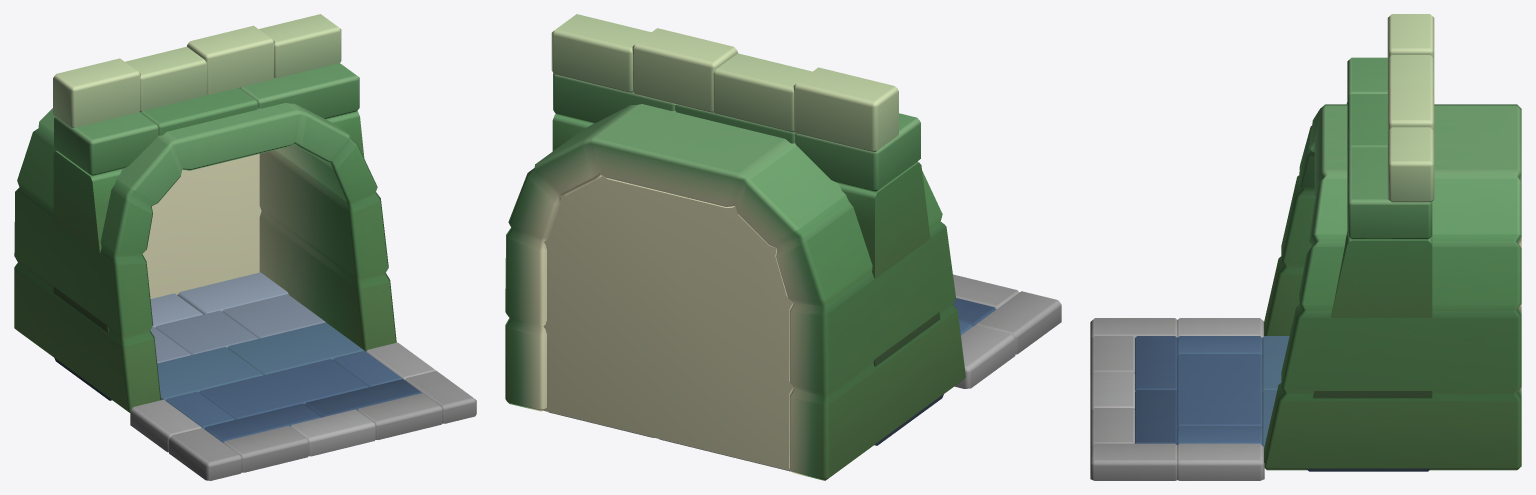
Rendered from doorway_entrance.fbx.
3 renders of one model, left to right at view 1: azimuth 30°, elevation 25°; view 2: azimuth 150°, elevation 25°; view 3: azimuth 270°, elevation 25°, orthographic. The views are drawn at different scales.
Parts seen in each view (by area): view 1: doorway_entrance; view 2: doorway_entrance; view 3: doorway_entrance.
Boxes of the visible parts, <box> form: doorway_entrance: <box>14,14,476,480</box>; doorway_entrance: <box>505,14,1061,480</box>; doorway_entrance: <box>1090,14,1521,480</box>.
Size of the model in its own units: 405 by 420 by 508.
